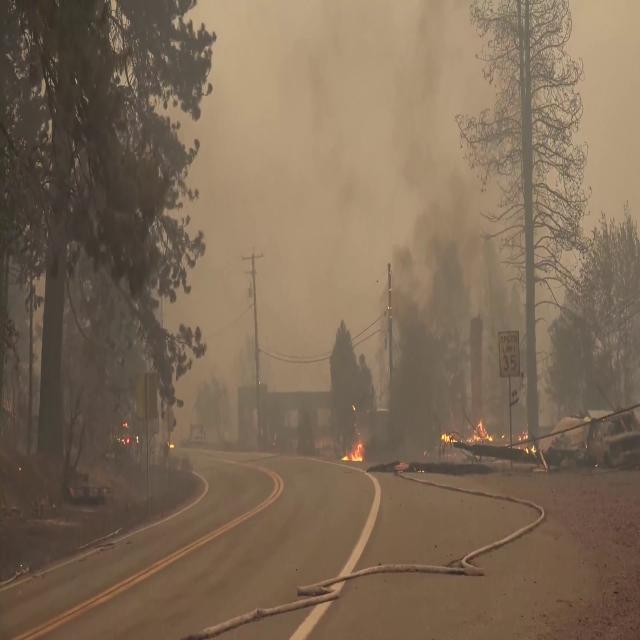Smoke: (374, 36, 492, 293), (268, 81, 377, 302)
